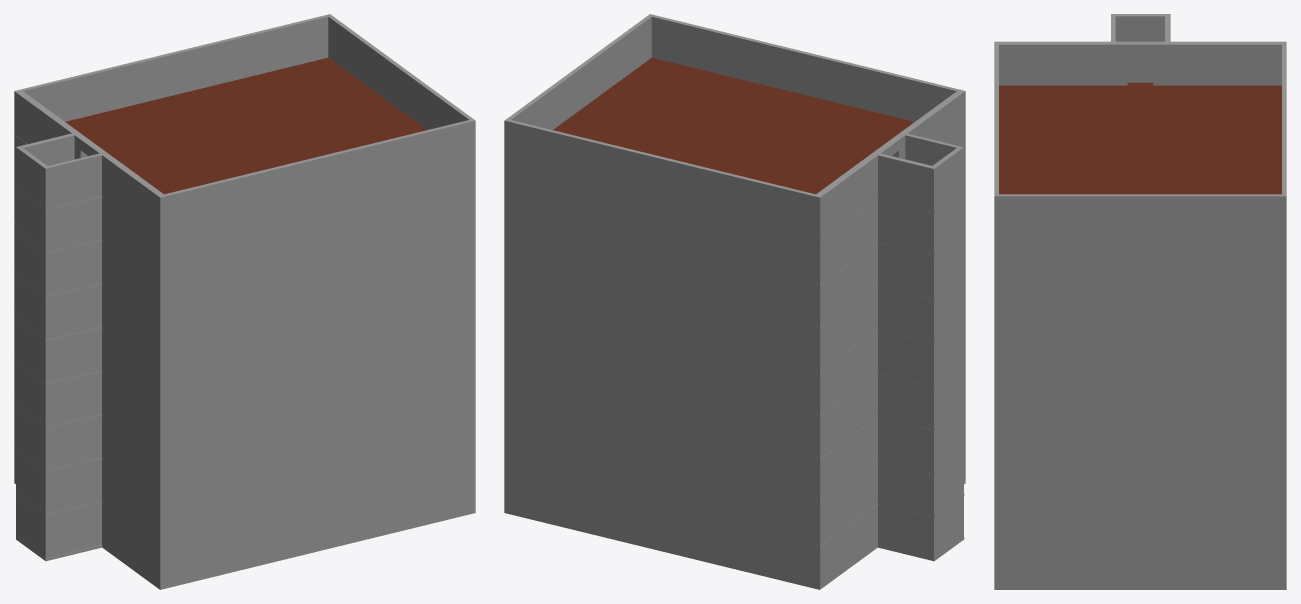
The model's file is mapV4.fbx.
The picture shows the model from 3 angles, left to right: view 1: azimuth 30°, elevation 25°; view 2: azimuth 150°, elevation 25°; view 3: azimuth 270°, elevation 25°; orthographic projection.
Parts seen in each view (by area): view 1: Floor; view 2: Floor; view 3: Floor.
Boxes of the visible parts, left/top/right/bottom form: Floor: left=14, top=14, right=475, bottom=589; Floor: left=504, top=14, right=965, bottom=589; Floor: left=994, top=14, right=1286, bottom=589.
Size of the model in its own units: 2947 by 2970 by 2000.
